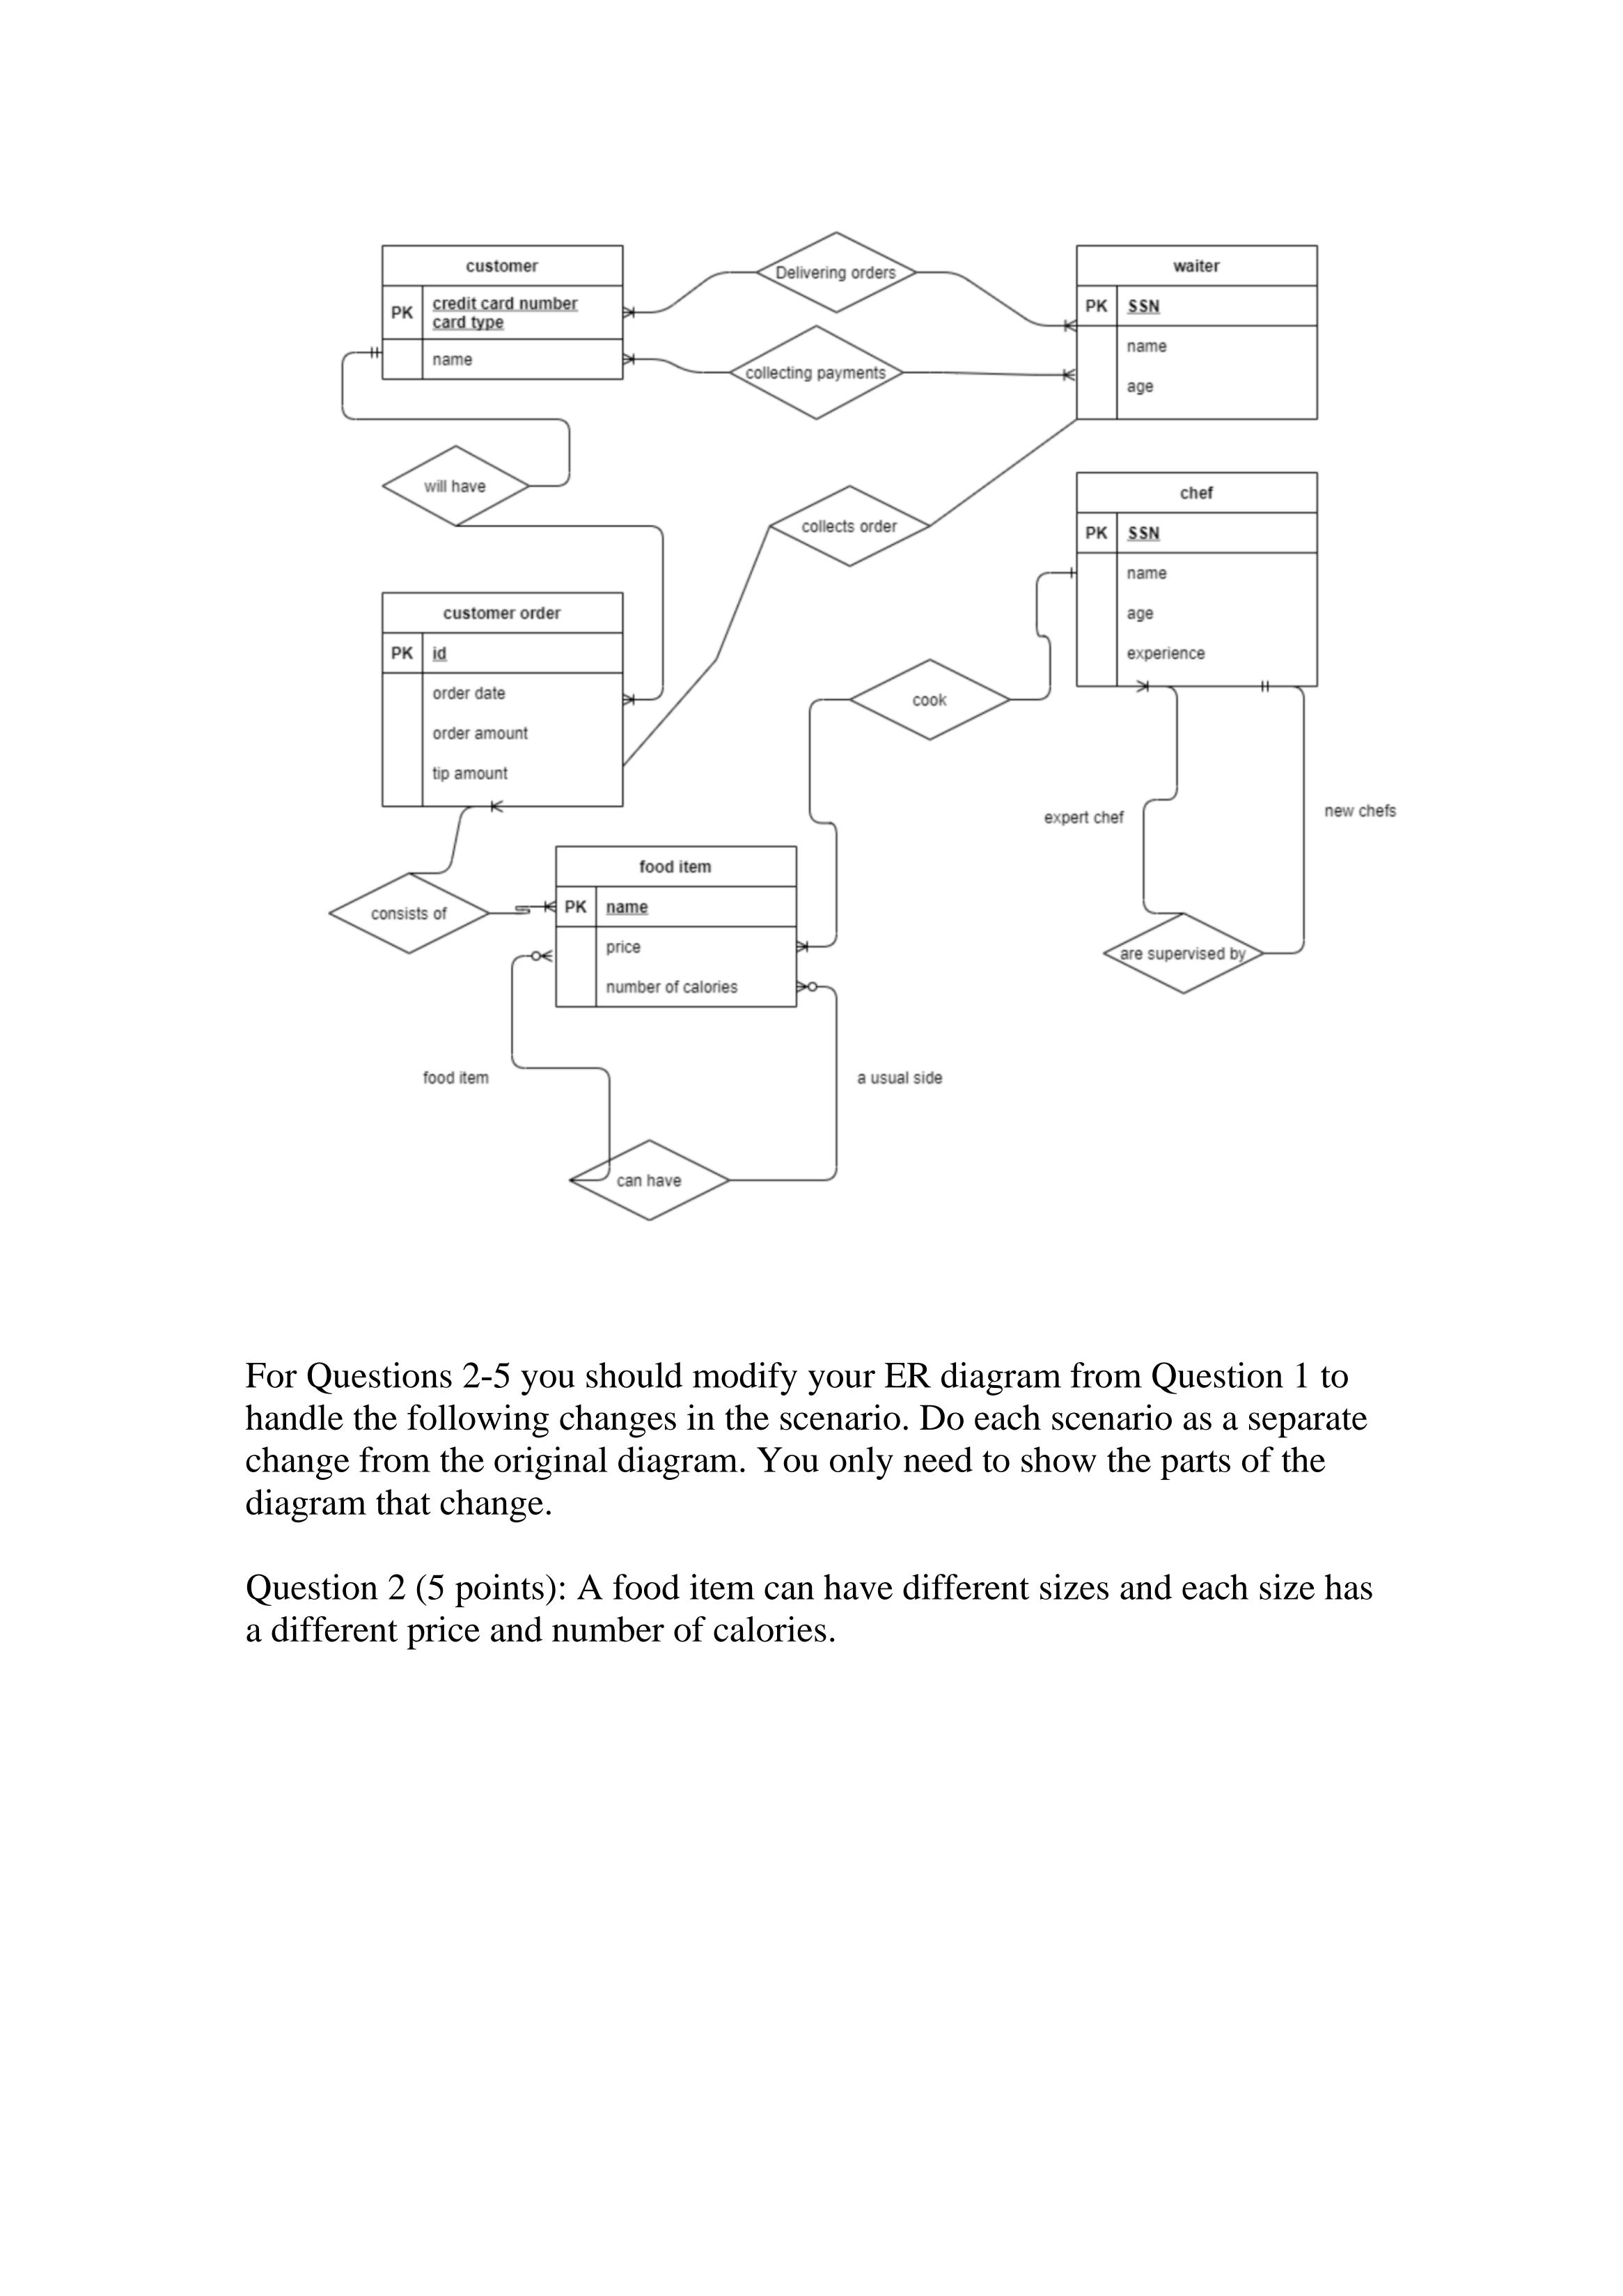Entity: (379, 590, 625, 808), (1075, 471, 1321, 689), (1075, 244, 1321, 422), (555, 845, 799, 1008), (379, 244, 625, 383)
Relationship: (729, 323, 905, 420), (327, 871, 490, 956), (1103, 912, 1265, 996), (850, 657, 1012, 741), (755, 230, 917, 313), (569, 1138, 729, 1221), (769, 485, 931, 566), (381, 444, 530, 527)
